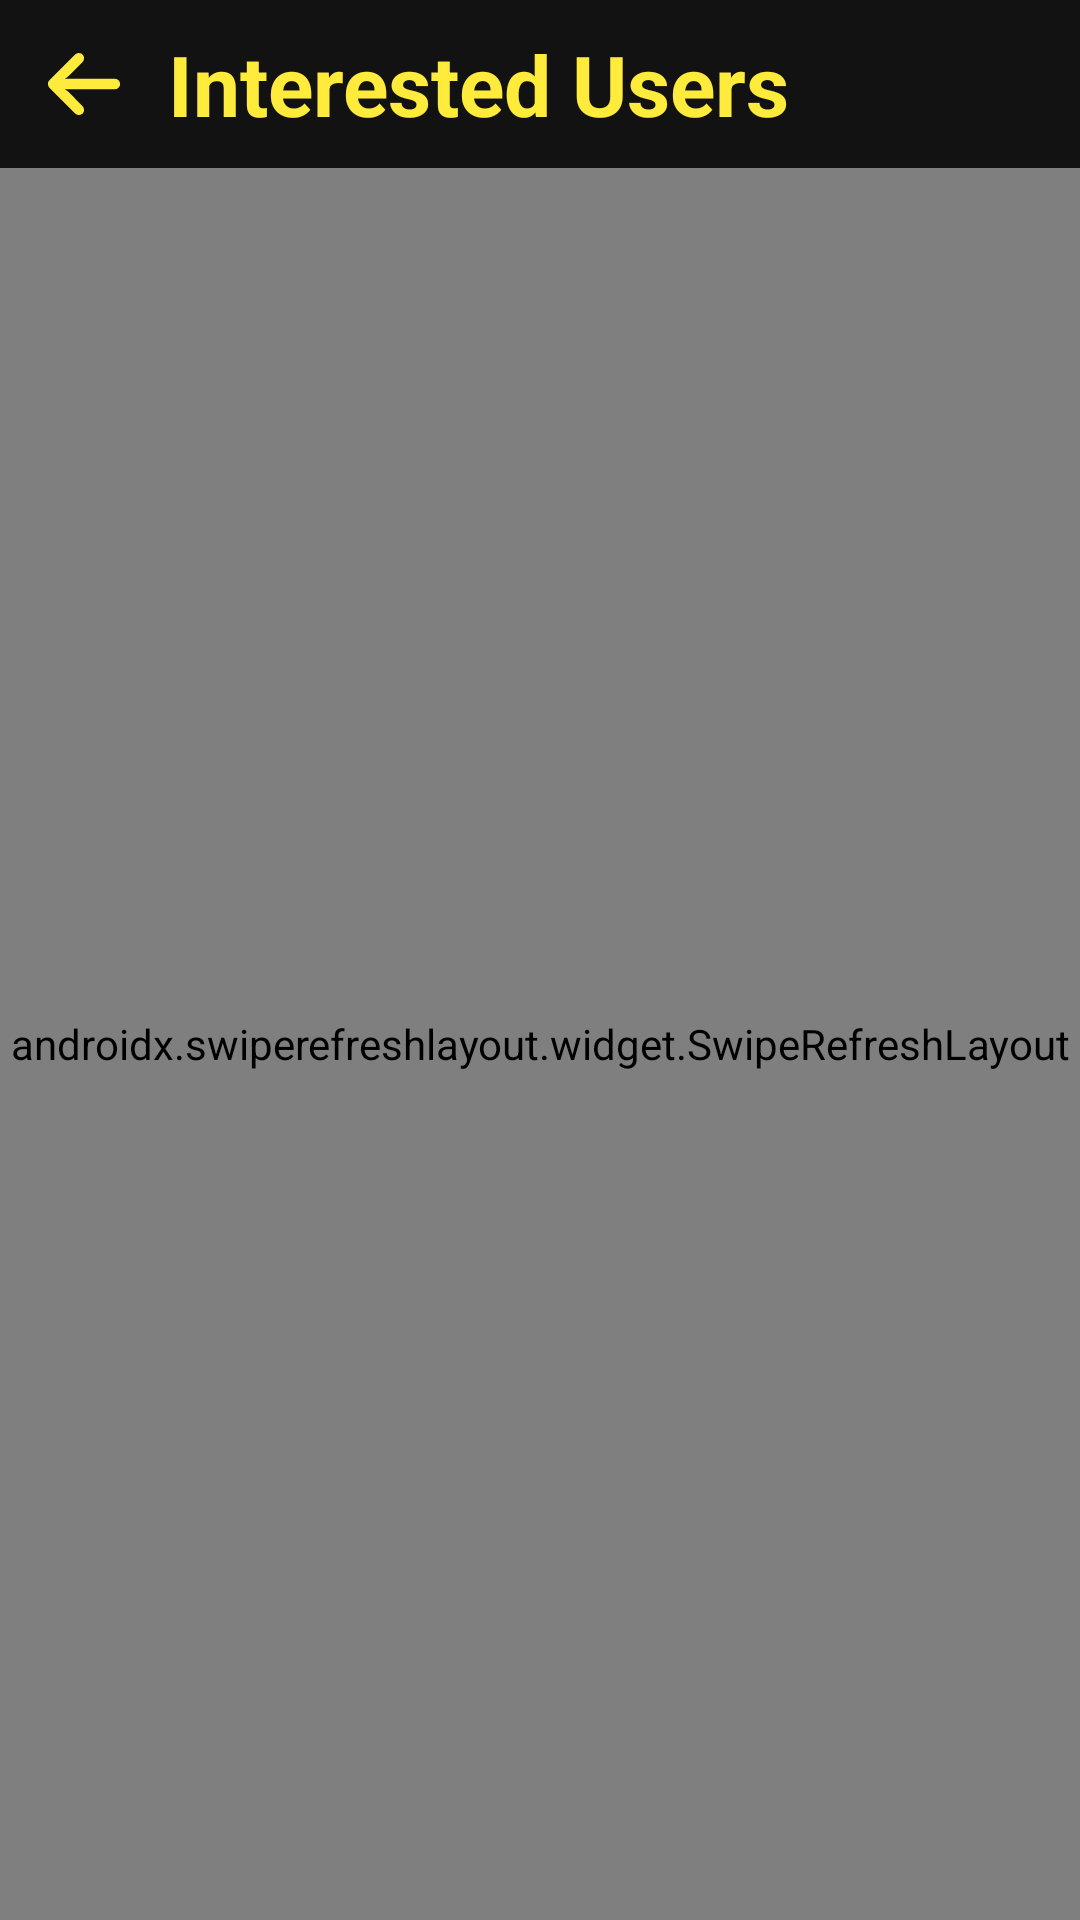

Named icons in this screenshot (1080×1920) and their bounding boxes, BBox(x1, y1, x2, y2):
back arrow: BBox(48, 53, 120, 115)
